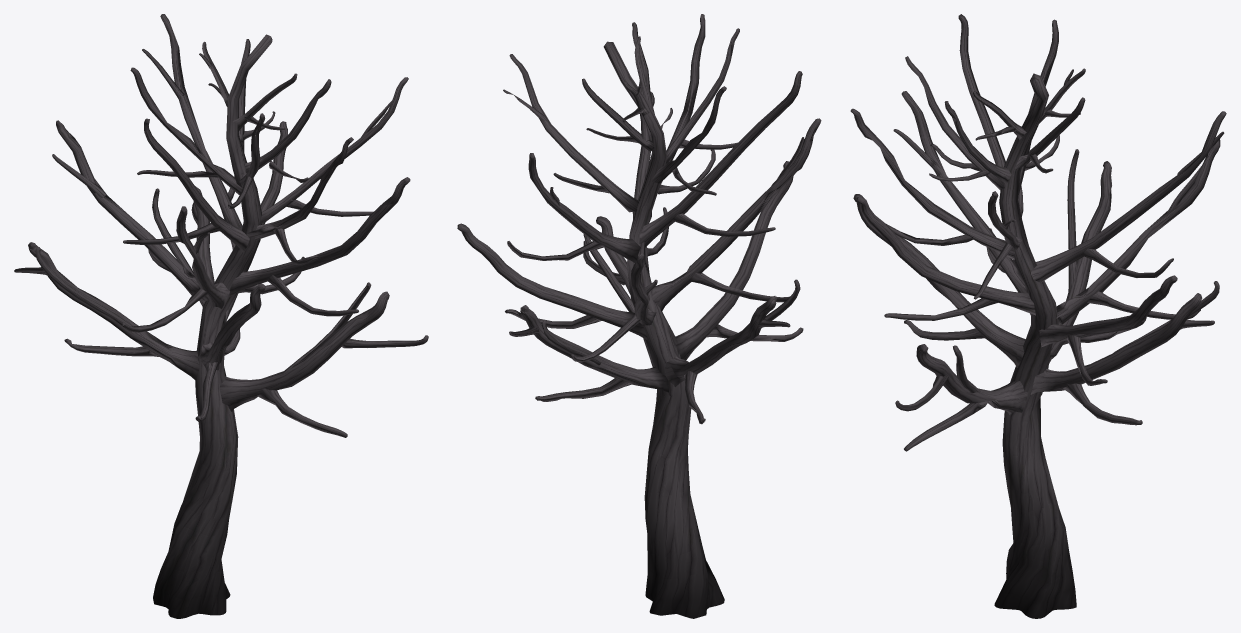
The model's file is nature-deadtree-1.glb.
The picture shows the model from 3 angles, left to right: view 1: azimuth 30°, elevation 25°; view 2: azimuth 150°, elevation 25°; view 3: azimuth 270°, elevation 25°; orthographic projection. The views are drawn at different scales.
Visible parts, largest first — view 1: DeadTree_1; view 2: DeadTree_1; view 3: DeadTree_1.
Boxes of the visible parts, bbox=[...] form: DeadTree_1: bbox=[14, 14, 428, 618]; DeadTree_1: bbox=[457, 14, 821, 618]; DeadTree_1: bbox=[850, 14, 1226, 618].
Size of the model in its own units: 6.15 by 9.5 by 5.75.
Materials: 1 (1 with a texture image).
